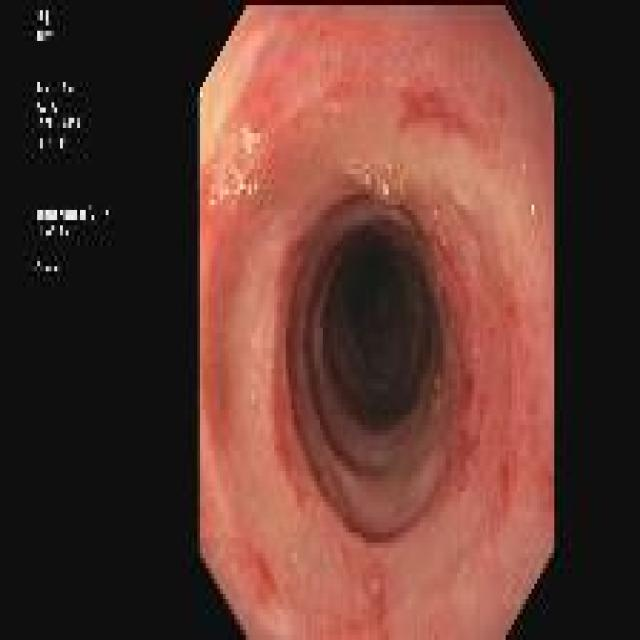ulcerative-colitis: (199, 7, 552, 638)
